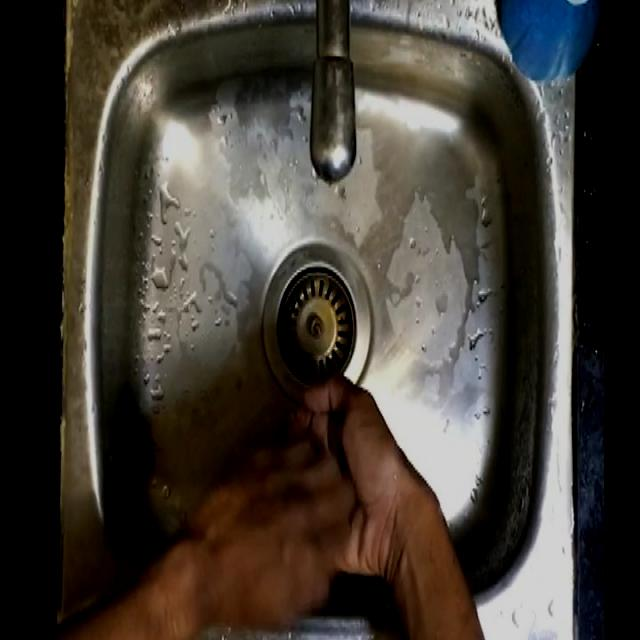step_4: (184, 368, 405, 615)
